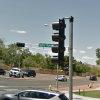Traffic light: (45, 2, 82, 69)
